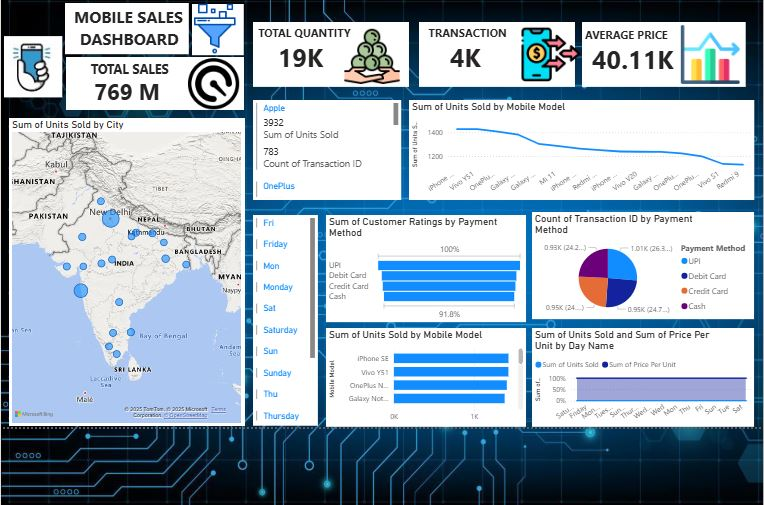

This screenshot's page, from the dashboard's own definition file:
{"tool":"powerbi","page":{"name":"Page 1","canvas":[1280,720],"ordinal":0},"visuals":[{"type":"lineChart","fields":{"Y":["Sum(Sheet1.Units Sold)"],"Category":["Sheet1.Mobile Model"]},"box":[685.4,171.3,579.5,168],"z":0},{"type":"multiRowCard","fields":{"Values":["Sheet1.Day Name"]},"box":[423.3,364.5,109.2,354.4],"z":1000},{"type":"pieChart","fields":{"Category":["Sheet1.Payment Method"],"Y":["CountNonNull(Sheet1.Transaction ID)"]},"box":[892,359.5,372.9,179.7],"z":2000},{"type":"hundredPercentStackedAreaChart","fields":{"Category":["Sheet1.Day Name"],"Y":["Sum(Sheet1.Units Sold)","Sum(Sheet1.Price Per Unit)"]},"box":[892,554.3,372.9,166.3],"z":3000},{"type":"funnel","fields":{"Y":["Sum(Sheet1.Customer Ratings)"],"Category":["Sheet1.Payment Method"]},"box":[545.9,364.5,336,179.7],"z":4000},{"type":"barChart","fields":{"Category":["Sheet1.Mobile Model"],"Y":["Sum(Sheet1.Units Sold)"]},"box":[545.9,554.3,336,166.3],"z":5000},{"type":"multiRowCard","fields":{"Values":["Sheet1.Brand","Sum(Sheet1.Units Sold)","CountNonNull(Sheet1.Transaction ID)"]},"box":[423.3,171.3,248.6,168],"z":6000},{"type":"map","fields":{"Category":["Sheet1.City"],"Size":["Sum(Sheet1.Units Sold)"]},"box":[13.4,201.6,394.8,517.4],"z":7000},{"type":"textbox","box":[423.3,40.3,262,109.2],"z":8000},{"type":"textbox","box":[702.2,40.3,262,109.2],"z":9000},{"type":"textbox","box":[976,40.3,275.5,109.2],"z":10000},{"type":"image","box":[1101.9,40.3,178.1,109.2],"z":11000},{"type":"image","box":[853.3,40.3,141.1,109.2],"z":12000},{"type":"image","box":[520.7,43.7,204.9,109.2],"z":13000},{"type":"textbox","box":[320.8,10.1,87.3,85.7],"z":14000},{"type":"textbox","box":[107.5,8.4,208.3,85.7],"z":15000},{"type":"image","box":[309.1,3.4,99.1,95.7],"z":16000},{"type":"textbox","box":[109.2,99.1,299,89],"z":17000},{"type":"image","box":[309.1,94.1,95.7,100.8],"z":18000},{"type":"image","box":[0,0,107.5,230.1],"z":19000}]}

Visuals, with their boxes in screenshot pixels (x1, y1, x2, y2):
lineChart - Sum(Sheet1.Units Sold) x Sheet1.Mobile Model: rect(405, 99, 747, 198)
multiRowCard - Sheet1.Day Name: rect(251, 213, 315, 421)
pieChart - Sheet1.Payment Method x CountNonNull(Sheet1.Transaction ID): rect(527, 210, 747, 315)
hundredPercentStackedAreaChart - Sheet1.Day Name x Sum(Sheet1.Units Sold): rect(527, 324, 747, 422)
funnel - Sum(Sheet1.Customer Ratings) x Sheet1.Payment Method: rect(323, 213, 521, 318)
barChart - Sheet1.Mobile Model x Sum(Sheet1.Units Sold): rect(323, 324, 521, 422)
multiRowCard - Sheet1.Brand x Sum(Sheet1.Units Sold): rect(251, 99, 397, 198)
map - Sheet1.City x Sum(Sheet1.Units Sold): rect(10, 117, 242, 421)
textbox: rect(251, 22, 405, 86)
textbox: rect(415, 22, 570, 86)
textbox: rect(576, 22, 739, 86)
image: rect(651, 22, 755, 86)
image: rect(504, 22, 587, 86)
image: rect(308, 24, 429, 88)
textbox: rect(191, 4, 242, 54)
textbox: rect(65, 3, 188, 53)
image: rect(184, 0, 242, 56)
textbox: rect(66, 56, 242, 109)
image: rect(184, 53, 240, 113)
image: rect(2, 0, 65, 133)
